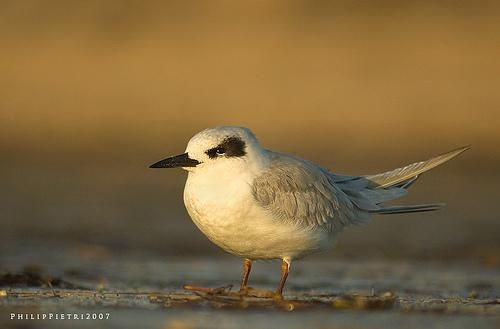bird: (151, 123, 472, 299)
